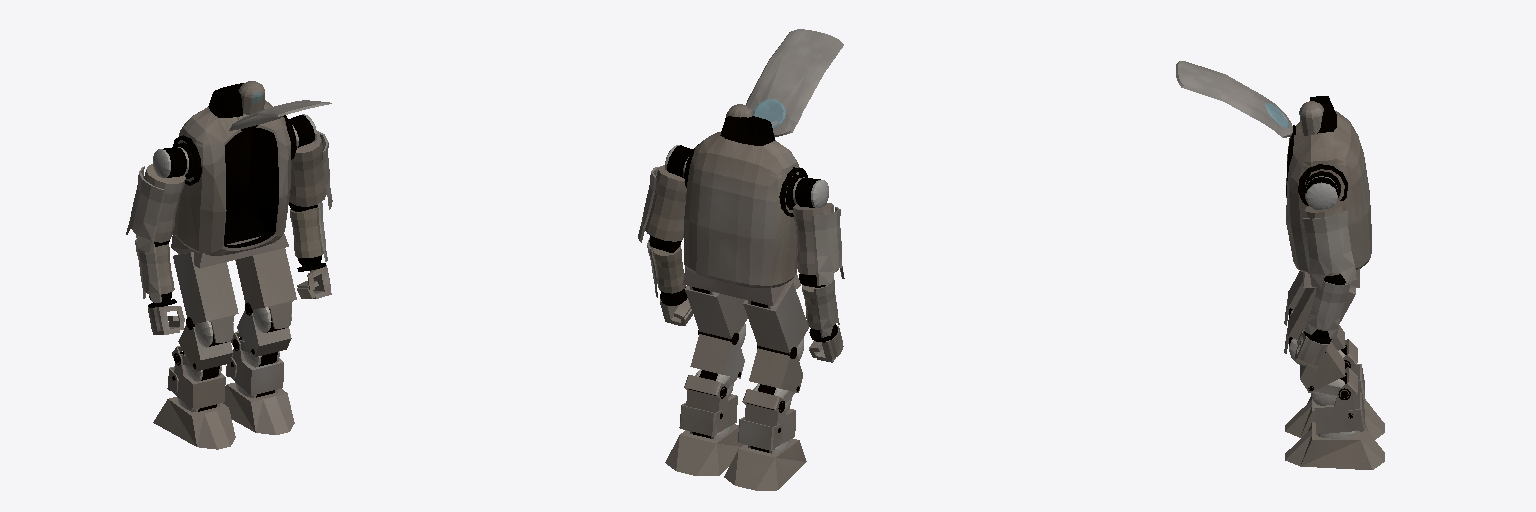
3 views of the same model, side by side, from view 1: azimuth 30°, elevation 25°; view 2: azimuth 150°, elevation 25°; view 3: azimuth 270°, elevation 25° (orthographic).
Visible parts, largest first — view 1: Cube.001; view 2: Cube.001; view 3: Cube.001.
Boxes of the visible parts, box(x1,y1,x2,y2) form: Cube.001: box(126, 81, 332, 449); Cube.001: box(638, 29, 844, 490); Cube.001: box(1176, 61, 1384, 469).
Size of the model in its own units: 2.37 by 4.31 by 2.19.
Materials: 1 (1 with a texture image).